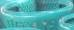cylinder: (1, 1, 74, 30)
